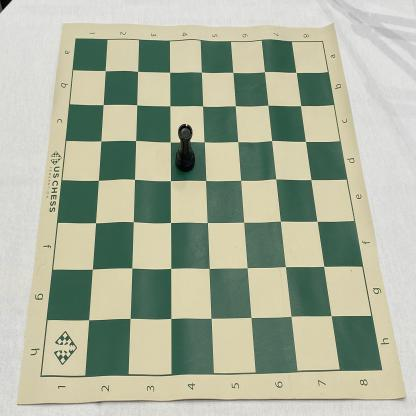black-rook: (174, 123, 195, 173)
